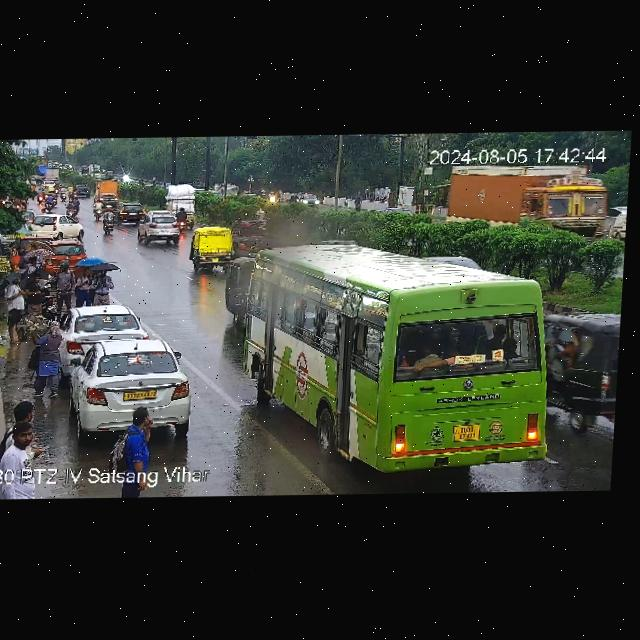bus: (234, 250, 565, 465)
car: (58, 339, 196, 434), (537, 318, 617, 435), (61, 305, 146, 349), (188, 229, 236, 270), (26, 214, 85, 238), (138, 219, 188, 244), (50, 240, 86, 264), (114, 204, 150, 224)
motorcycle: (57, 185, 81, 217), (35, 188, 57, 212), (99, 212, 119, 234), (175, 207, 195, 229)
person: (0, 399, 48, 499), (106, 411, 159, 498), (28, 319, 64, 401), (0, 277, 33, 332), (48, 263, 80, 311), (84, 263, 114, 303), (72, 264, 98, 307)
truck: (434, 166, 613, 238), (164, 184, 198, 212), (91, 177, 124, 204)
